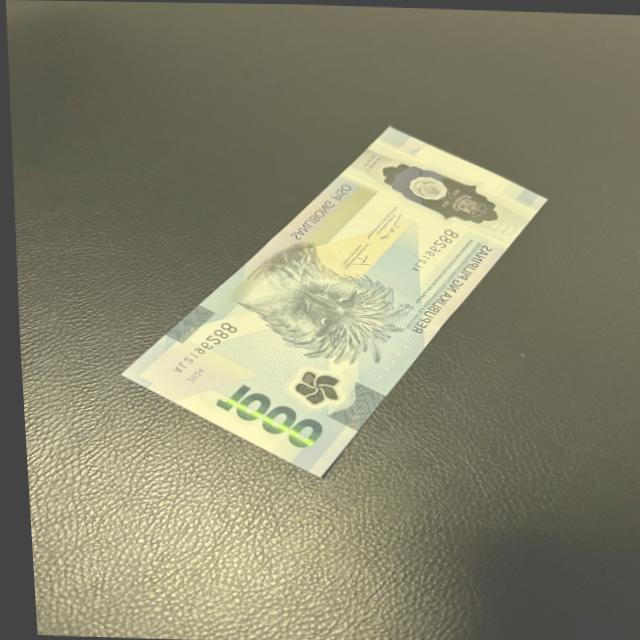clear_window: (369, 162, 497, 224)
eagle: (240, 258, 406, 357)
sampaguita: (278, 368, 346, 404)
